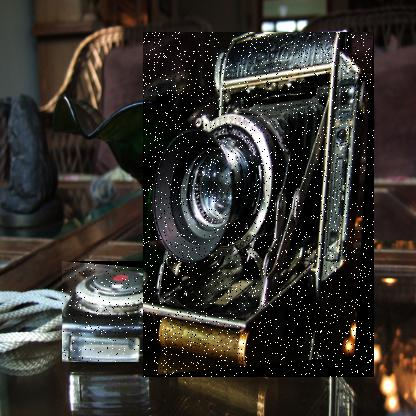Camera: (144, 33, 376, 379), (64, 262, 174, 364)
